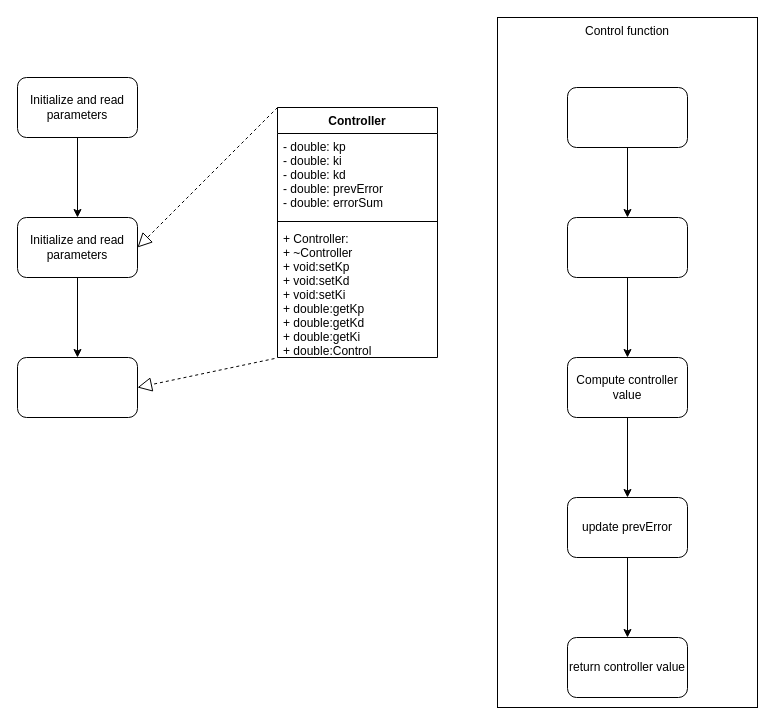
This 775x725 diagram has some shape labels left out. The shapes that lost their labels are listed below. From the top down, each one's centre as x and y in pixels, then its label:
pixel 627 117: compute error
pixel 627 247: add error to errorSum
pixel 77 387: Run control law function
